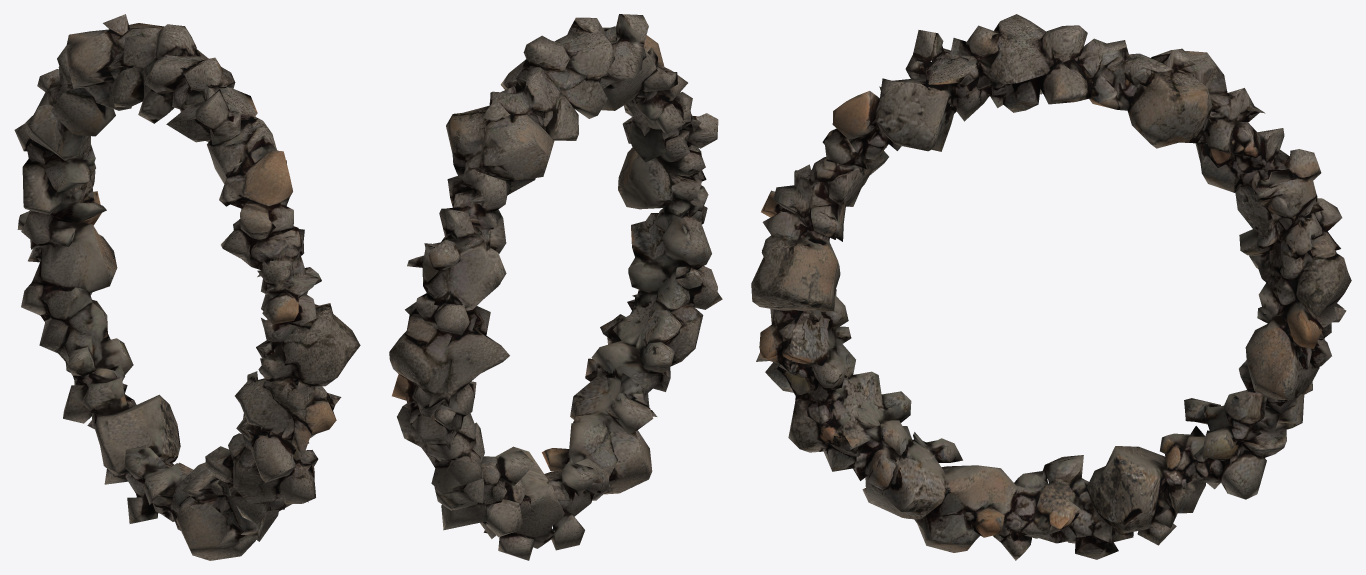
File: debris.glb
The picture shows the model from 3 angles, left to right: view 1: azimuth 30°, elevation 25°; view 2: azimuth 150°, elevation 25°; view 3: azimuth 270°, elevation 25°; orthographic projection. The views are drawn at different scales.
Visible parts, largest first — view 1: tripo_node_f2564545-152b-4d9d-aabb-74c06dbc005c; view 2: tripo_node_f2564545-152b-4d9d-aabb-74c06dbc005c; view 3: tripo_node_f2564545-152b-4d9d-aabb-74c06dbc005c.
Boxes of the visible parts, x1,y1,x2,y2 form: tripo_node_f2564545-152b-4d9d-aabb-74c06dbc005c: [14, 14, 360, 560]; tripo_node_f2564545-152b-4d9d-aabb-74c06dbc005c: [389, 14, 722, 560]; tripo_node_f2564545-152b-4d9d-aabb-74c06dbc005c: [751, 14, 1351, 560].
Size of the model in its own units: 0.2138 by 0.9535 by 0.9742.
1 material, 1 textured.
